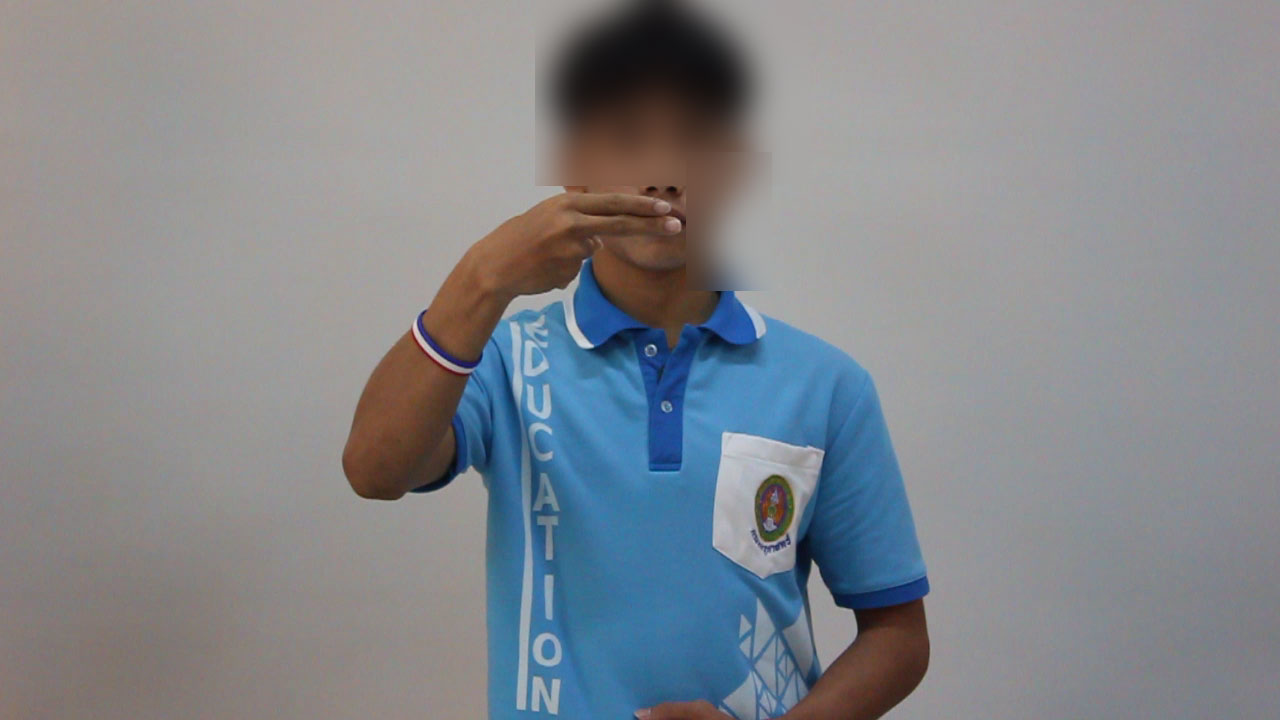hor: (460, 184, 699, 308)
